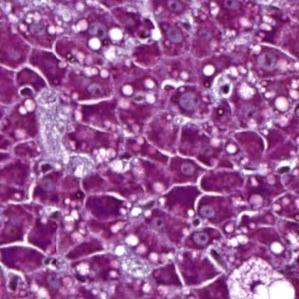ballooning: (224, 254, 295, 297)
